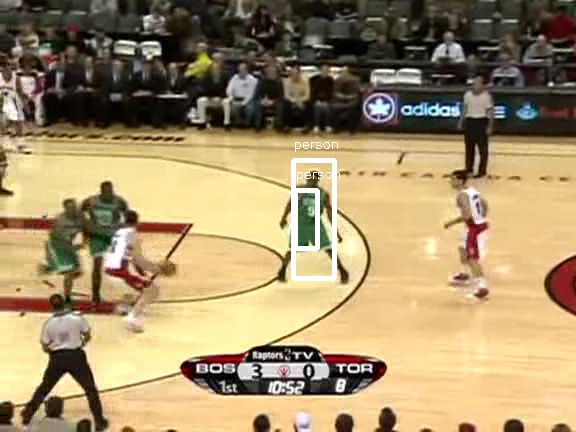person: (293, 179, 327, 260), (292, 179, 326, 260), (294, 179, 328, 260), (293, 178, 327, 259), (293, 180, 327, 261)
target_negative: (92, 64, 356, 128), (428, 164, 557, 264), (472, 17, 496, 300), (427, 408, 499, 431), (356, 412, 378, 426), (558, 412, 567, 421)
